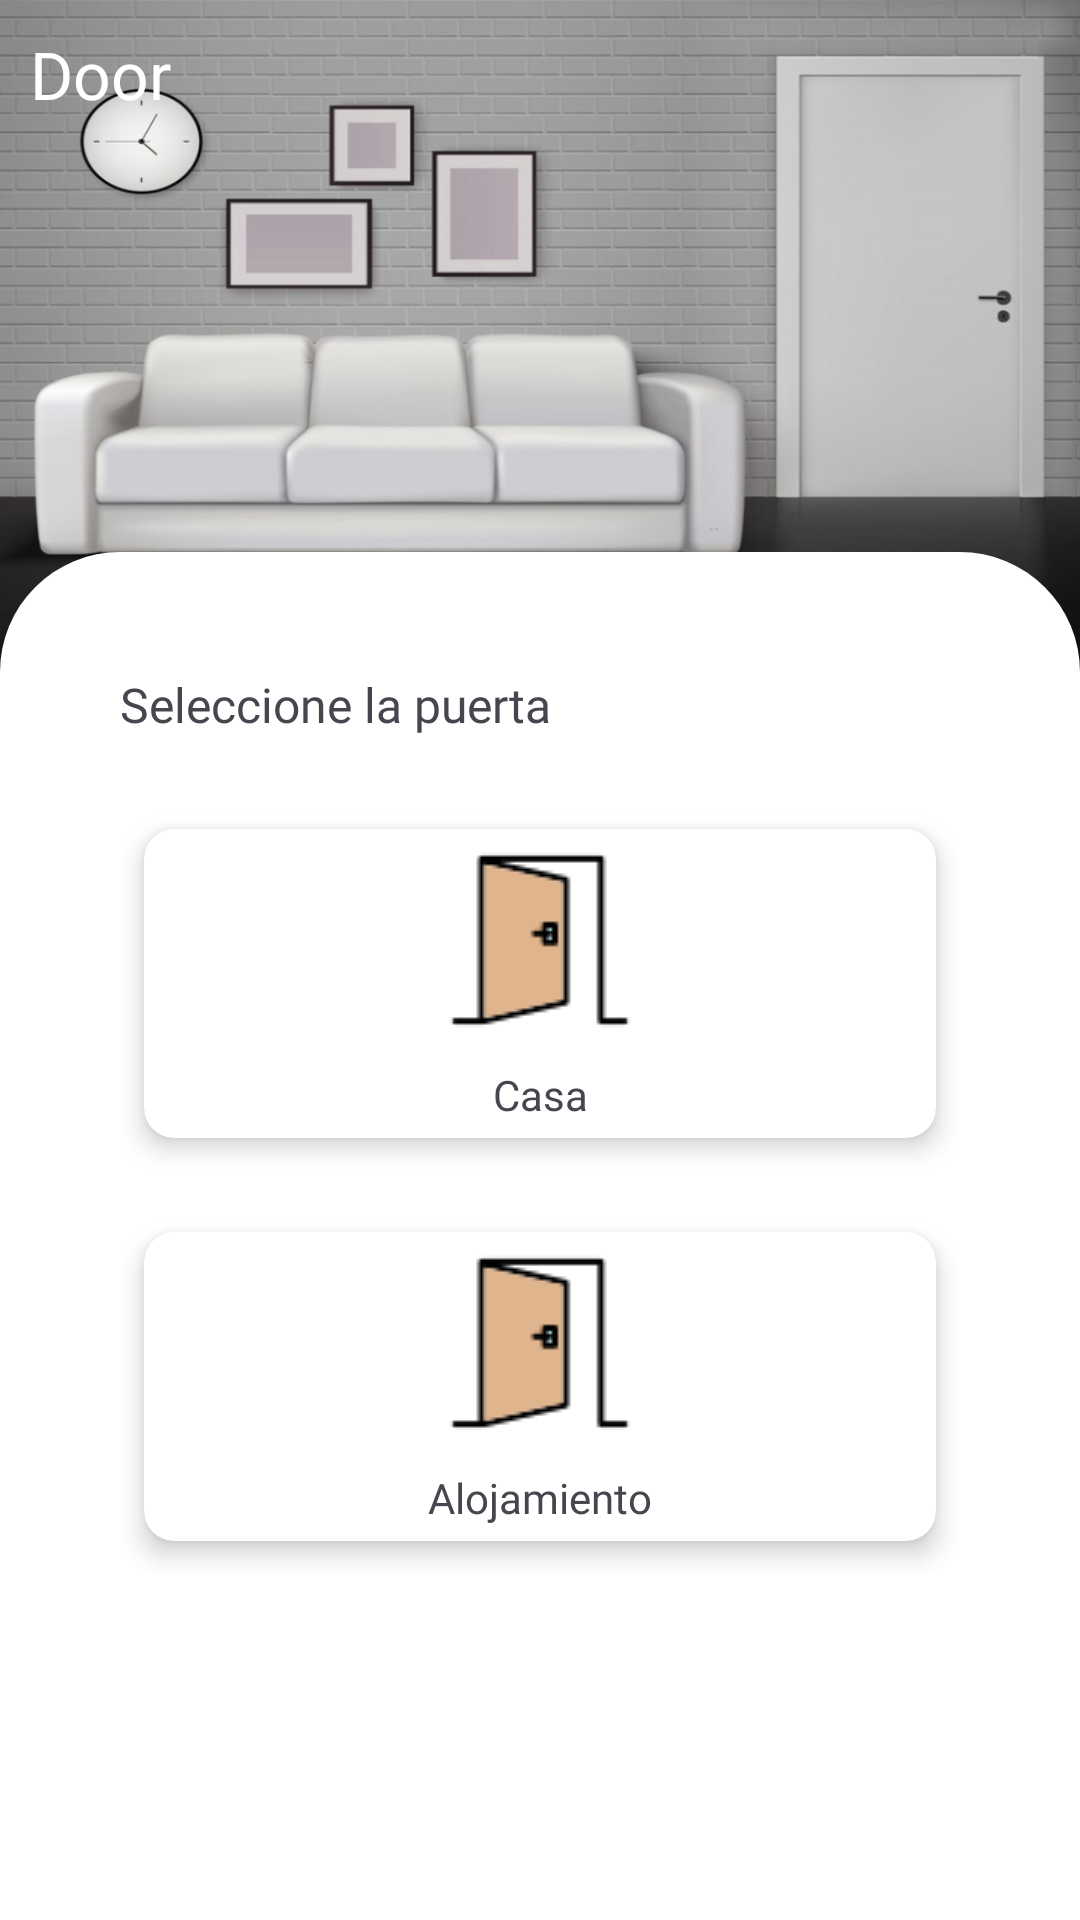

Where to tap for icons on this 1080w x 1920h app screen, as point (x, y):
puerta abierta: point (540, 940), point (540, 1343)
